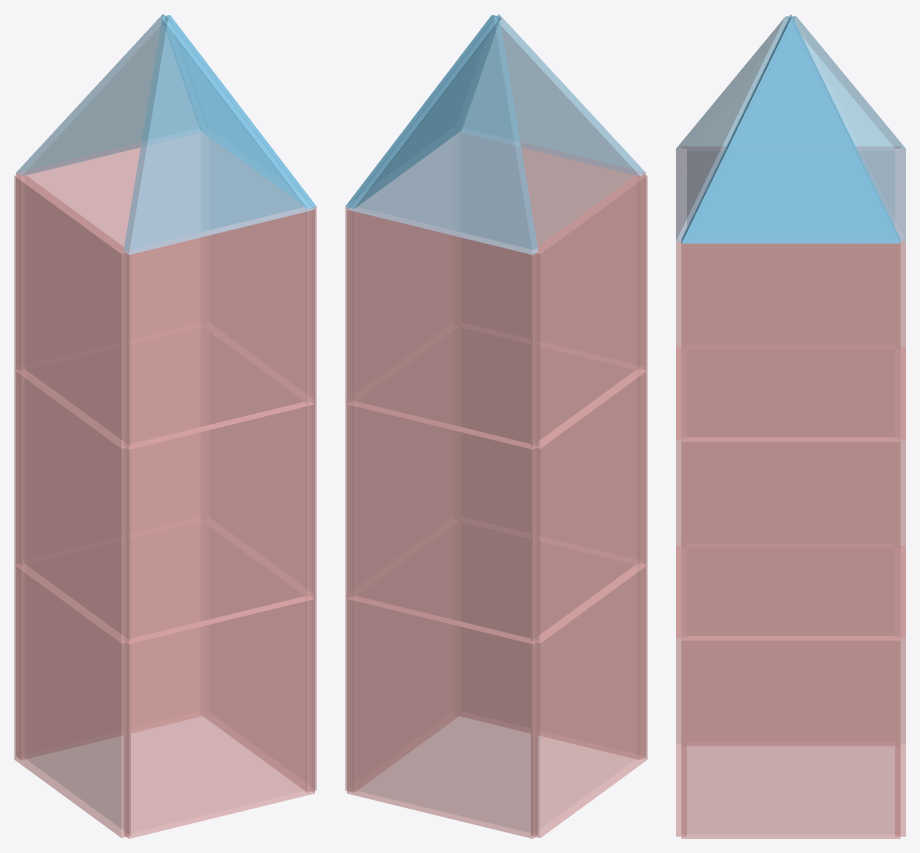
File: torre_step16.glb
The picture shows the model from 3 angles, left to right: view 1: azimuth 30°, elevation 25°; view 2: azimuth 150°, elevation 25°; view 3: azimuth 270°, elevation 25°; orthographic projection.
Parts seen in each view (by area): view 1: qN.002, qN, qN.001, qS.002, qS, qS.001, qW.002, qW.001, qW, tri_N, qE, qE.002 (+3 smaller); view 2: qS.002, qS, qS.001, qN.002, qN, qN.001, qW.002, qW, qW.001, tri_S, qE, qE.001 (+3 smaller); view 3: qE.001, qE, qE.002, qW.001, qW, tri_E, qW.002, tri_N, tri_S, qN.002, qS.002, qN (+3 smaller).
Boxes of the visible parts, x1,y1,x2,y2 form: qN.002: (124, 207, 314, 449); qN: (124, 596, 314, 838); qN.001: (124, 402, 314, 643); qS.002: (16, 133, 202, 370); qS: (16, 522, 202, 759); qS.001: (16, 328, 201, 565); qW.002: (14, 174, 130, 448); qW.001: (14, 369, 130, 643); qW: (14, 564, 130, 837); tri_N: (123, 14, 314, 254); qE: (203, 525, 316, 792); qE.002: (204, 136, 316, 402); qS.002: (347, 207, 537, 449); qS: (347, 596, 537, 838); qS.001: (347, 402, 537, 643); qN.002: (459, 133, 645, 370); qN: (459, 522, 645, 759); qN.001: (460, 328, 645, 565); qW.002: (531, 174, 647, 448); qW: (531, 564, 647, 837); qW.001: (531, 369, 647, 643); tri_S: (347, 14, 538, 254); qE: (345, 525, 458, 792); qE.001: (345, 330, 458, 597); qE.001: (681, 437, 900, 640); qE: (681, 636, 900, 838); qE.002: (681, 243, 900, 441); qW.001: (687, 349, 894, 547); qW: (687, 548, 894, 745); tri_E: (681, 14, 900, 243); qW.002: (681, 146, 900, 348); tri_N: (676, 16, 795, 241); tri_S: (786, 16, 905, 241); qN.002: (676, 149, 686, 439); qS.002: (895, 149, 905, 439); qN: (676, 546, 686, 836).
Size of the model in its own units: 1.05 by 3.9 by 1.05.
